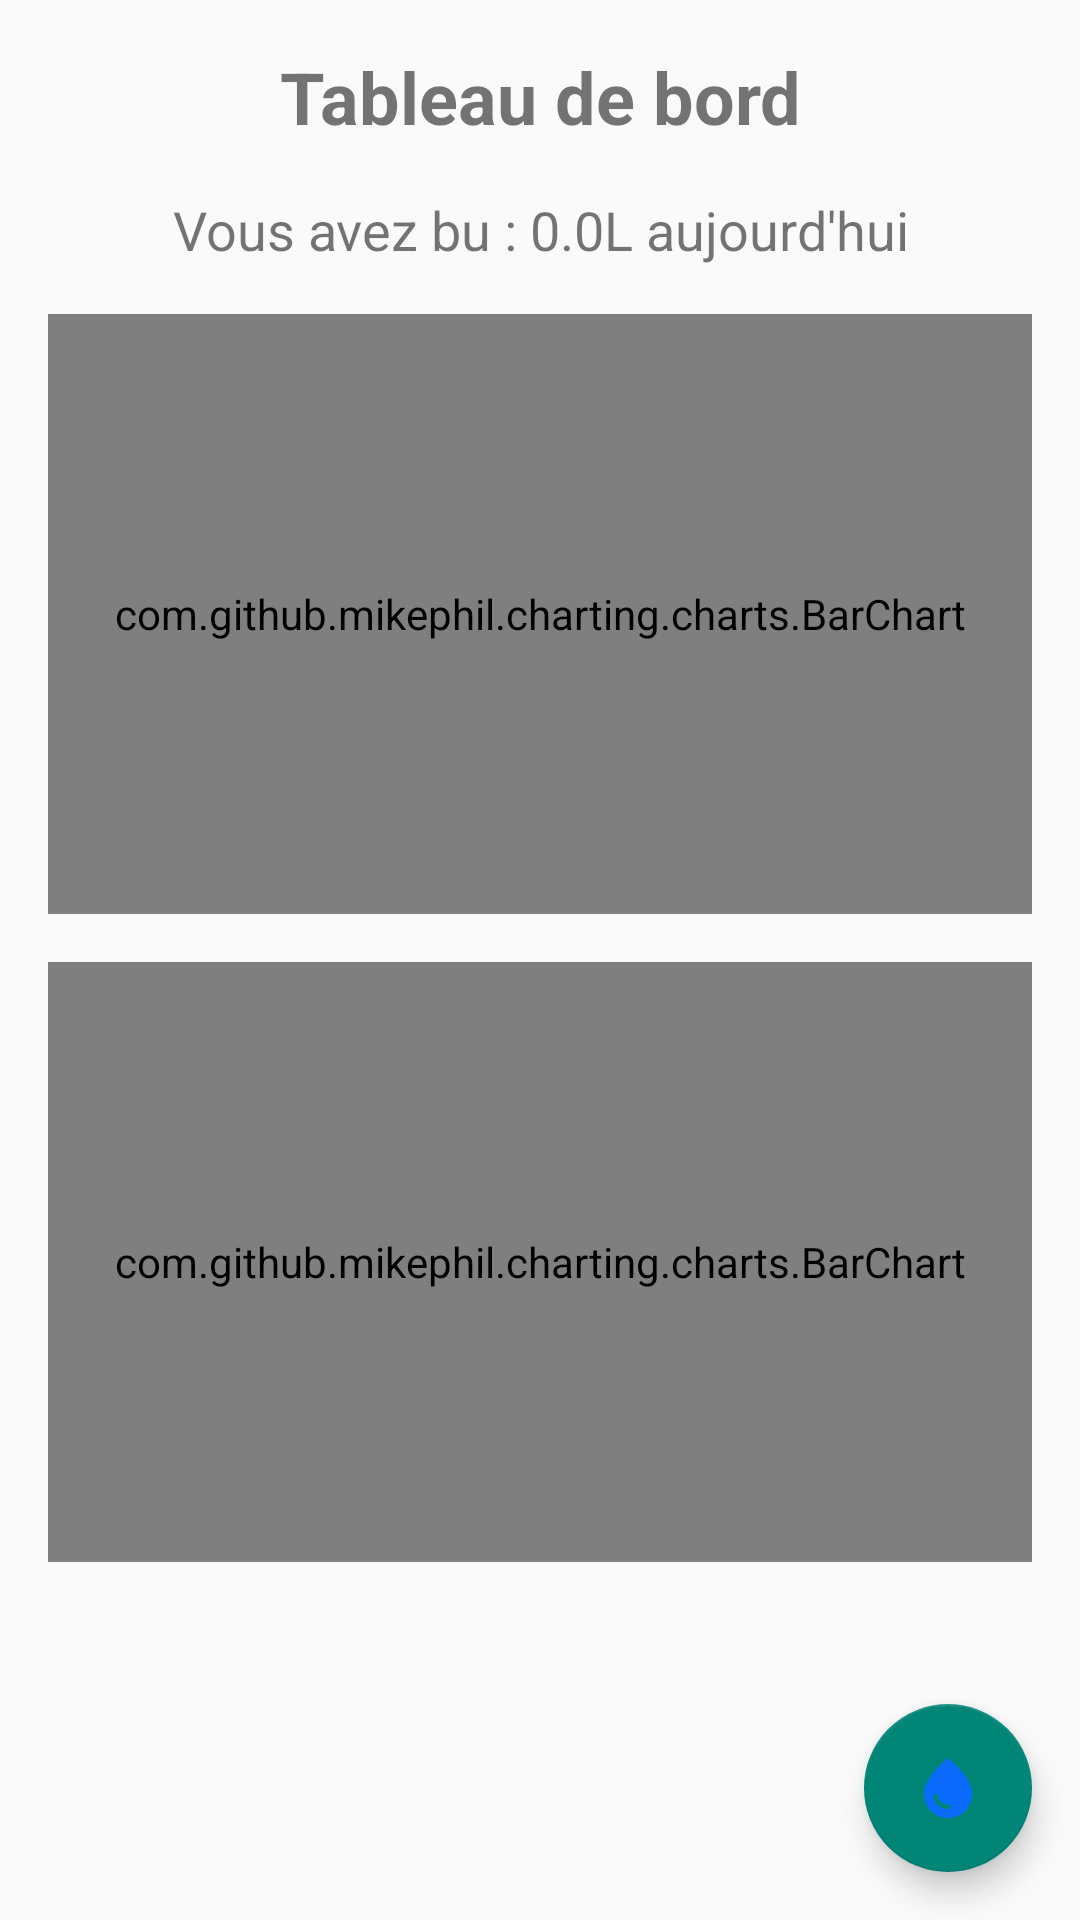

Icons on this 1080 x 1920 Android screen, each with its box as (x1=x1, y1=y1, x2=x2, y2=y2):
Add Consumption: (x1=864, y1=1704, x2=1032, y2=1872)
